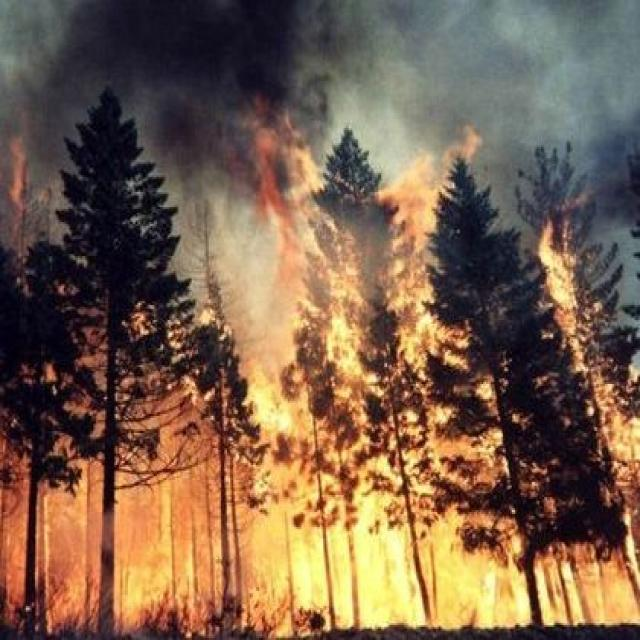Fire: (0, 149, 640, 640)
Smoke: (0, 0, 632, 167)
